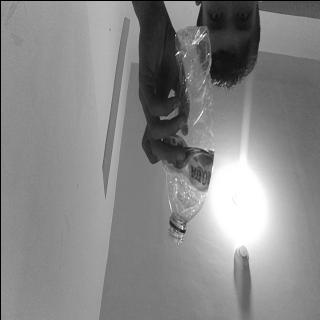plastic_bottles: (162, 24, 214, 244)
